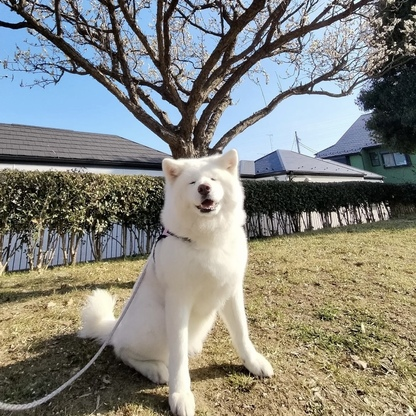akita: (74, 145, 279, 416)
